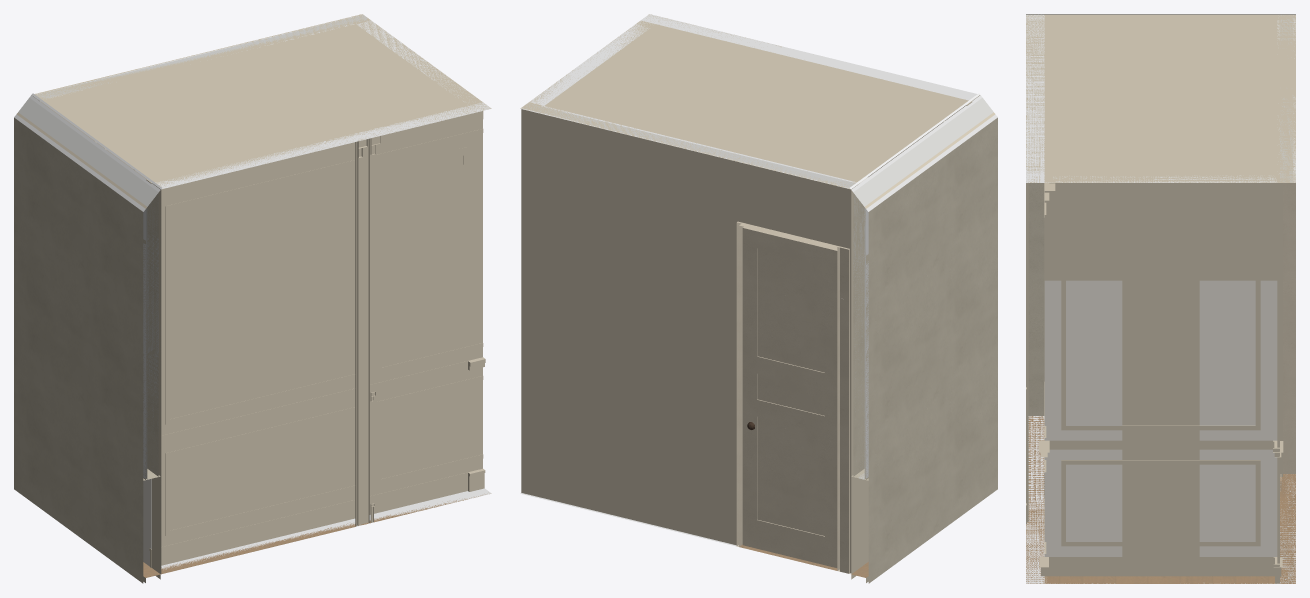
The model's file is upstairs-closet-west-a6f4515ca9cc.glb.
3 views of the same model, side by side, from view 1: azimuth 30°, elevation 25°; view 2: azimuth 150°, elevation 25°; view 3: azimuth 270°, elevation 25° (orthographic). The views are drawn at different scales.
Visible parts, largest first — view 1: upstairs-closet-west-6e269356ae8bfd70, upstairs-closet-west-9d91b47435c6fb33, upstairs-closet-west-312b4ac1be39223d, upstairs-closet-west-33ee0b466567e5f0, upstairs-closet-west-ed5fdcd3ee9c0dd5, upstairs-closet-west-414385708a06acff, upstairs-closet-west-39b94aca90fa4b53, upstairs-closet-west-3a4d9d62ecd7be1c, upstairs-closet-west-06754748489735a0, upstairs-closet-west-23111371382874c8, upstairs-closet-west-1e3385c37a14aaf6, upstairs-closet-west-b63ee86b16afd4c0 (+7 smaller); view 2: upstairs-closet-west-eb02897c2e79e2b1, upstairs-closet-west-9d91b47435c6fb33, upstairs-closet-west-312b4ac1be39223d, upstairs-closet-west-7406100458e293ce, upstairs-closet-west-33ee0b466567e5f0, upstairs-closet-west-3a4d9d62ecd7be1c, upstairs-closet-west-39b94aca90fa4b53, upstairs-closet-west-442e5a19ed849720, upstairs-closet-west-4fe731a8ba1c3bde, upstairs-closet-west-6e269356ae8bfd70, upstairs-closet-west-23111371382874c8, upstairs-closet-west-af27112094daa34f (+1 smaller); view 3: upstairs-closet-west-9d91b47435c6fb33, upstairs-closet-west-af27112094daa34f, upstairs-closet-west-baab6376bd5c825e, upstairs-closet-west-009cc251587f21dd, upstairs-closet-west-6e269356ae8bfd70, upstairs-closet-west-2575515a05775d9e, upstairs-closet-west-4f0e44ea3a4792e4, upstairs-closet-west-01cb28dde92e932c, upstairs-closet-west-7f77ce4796f35946, upstairs-closet-west-442e5a19ed849720, upstairs-closet-west-fec105c9a6387936, upstairs-closet-west-eb02897c2e79e2b1 (+4 smaller).
Boxes of the visible parts, bbox=[...] form: upstairs-closet-west-6e269356ae8bfd70: bbox=[152, 102, 491, 573]; upstairs-closet-west-9d91b47435c6fb33: bbox=[31, 14, 491, 188]; upstairs-closet-west-312b4ac1be39223d: bbox=[14, 114, 145, 480]; upstairs-closet-west-33ee0b466567e5f0: bbox=[14, 386, 160, 583]; upstairs-closet-west-ed5fdcd3ee9c0dd5: bbox=[355, 138, 369, 526]; upstairs-closet-west-414385708a06acff: bbox=[149, 469, 478, 567]; upstairs-closet-west-39b94aca90fa4b53: bbox=[18, 98, 158, 479]; upstairs-closet-west-3a4d9d62ecd7be1c: bbox=[29, 95, 160, 476]; upstairs-closet-west-06754748489735a0: bbox=[165, 160, 355, 424]; upstairs-closet-west-23111371382874c8: bbox=[146, 98, 483, 197]; upstairs-closet-west-1e3385c37a14aaf6: bbox=[161, 358, 479, 443]; upstairs-closet-west-b63ee86b16afd4c0: bbox=[165, 407, 355, 535]; upstairs-closet-west-eb02897c2e79e2b1: bbox=[520, 103, 859, 574]; upstairs-closet-west-9d91b47435c6fb33: bbox=[520, 14, 980, 189]; upstairs-closet-west-312b4ac1be39223d: bbox=[866, 114, 997, 480]; upstairs-closet-west-7406100458e293ce: bbox=[742, 226, 837, 567]; upstairs-closet-west-33ee0b466567e5f0: bbox=[851, 386, 997, 583]; upstairs-closet-west-3a4d9d62ecd7be1c: bbox=[851, 95, 982, 476]; upstairs-closet-west-39b94aca90fa4b53: bbox=[853, 98, 993, 479]; upstairs-closet-west-442e5a19ed849720: bbox=[736, 221, 840, 571]; upstairs-closet-west-4fe731a8ba1c3bde: bbox=[840, 246, 849, 573]; upstairs-closet-west-6e269356ae8bfd70: bbox=[641, 14, 979, 176]; upstairs-closet-west-23111371382874c8: bbox=[637, 20, 972, 115]; upstairs-closet-west-af27112094daa34f: bbox=[529, 20, 649, 105]; upstairs-closet-west-9d91b47435c6fb33: bbox=[1026, 14, 1295, 182]; upstairs-closet-west-af27112094daa34f: bbox=[1044, 175, 1277, 583]; upstairs-closet-west-baab6376bd5c825e: bbox=[1199, 280, 1277, 556]; upstairs-closet-west-009cc251587f21dd: bbox=[1044, 280, 1122, 556]; upstairs-closet-west-6e269356ae8bfd70: bbox=[1026, 14, 1044, 583]; upstairs-closet-west-2575515a05775d9e: bbox=[1026, 416, 1295, 583]; upstairs-closet-west-4f0e44ea3a4792e4: bbox=[1044, 555, 1274, 576]; upstairs-closet-west-01cb28dde92e932c: bbox=[1061, 202, 1260, 430]; upstairs-closet-west-7f77ce4796f35946: bbox=[1044, 215, 1277, 235]; upstairs-closet-west-442e5a19ed849720: bbox=[1283, 183, 1295, 473]; upstairs-closet-west-fec105c9a6387936: bbox=[1061, 460, 1260, 546]; upstairs-closet-west-eb02897c2e79e2b1: bbox=[1277, 15, 1295, 583].
Size of the model in its own units: 2.74 by 2.95 by 1.77.
Materials: 17 (3 with a texture image).
